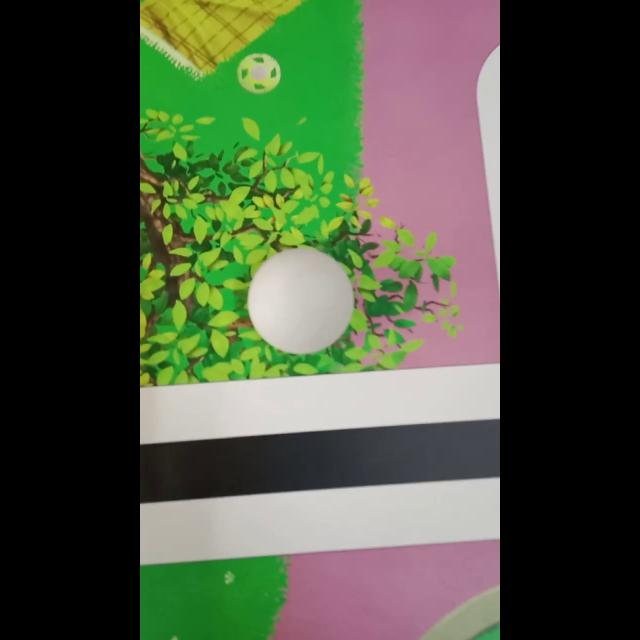white ball: (246, 245, 354, 355)
